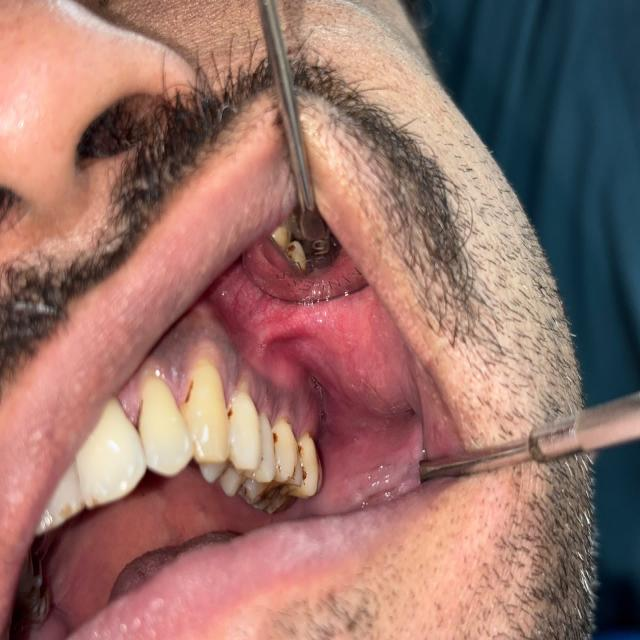processing_area: (47, 252, 419, 615)
